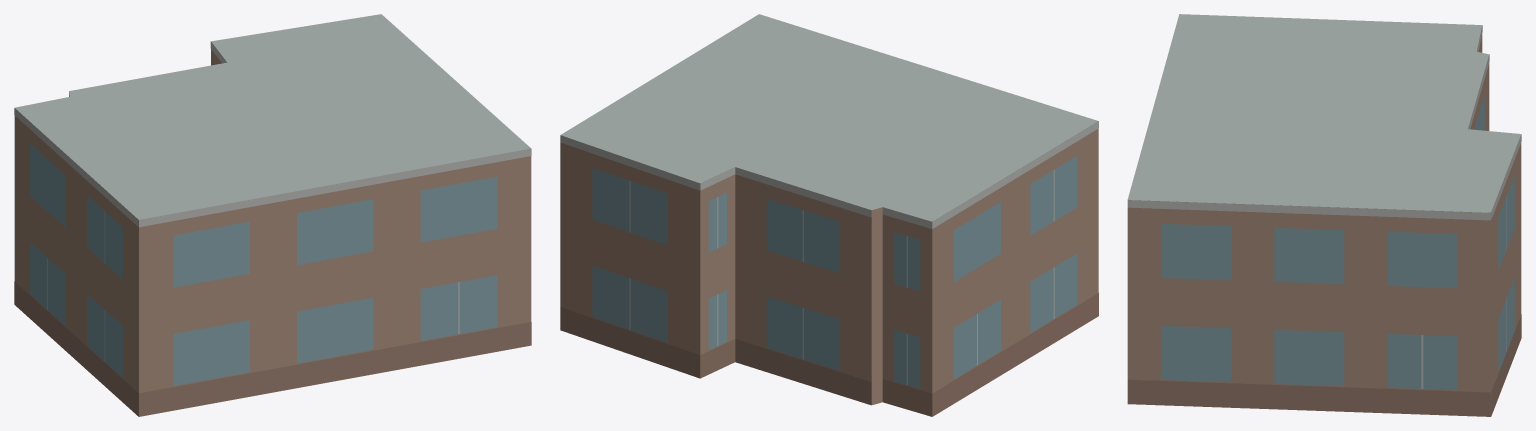
Rendered from survey-upis-32806964.glb.
3 views of the same model, side by side, from view 1: azimuth 30°, elevation 25°; view 2: azimuth 150°, elevation 25°; view 3: azimuth 270°, elevation 25° (orthographic). The views are drawn at different scales.
Parts seen in each view (by area): view 1: survey-upis-32806964.tmp; view 2: survey-upis-32806964.tmp; view 3: survey-upis-32806964.tmp.
Boxes of the visible parts, <box> form: survey-upis-32806964.tmp: <box>14,14,531,416</box>; survey-upis-32806964.tmp: <box>560,14,1098,416</box>; survey-upis-32806964.tmp: <box>1127,14,1521,416</box>.
Size of the model in its own units: 13.59 by 6.5 by 11.38.
